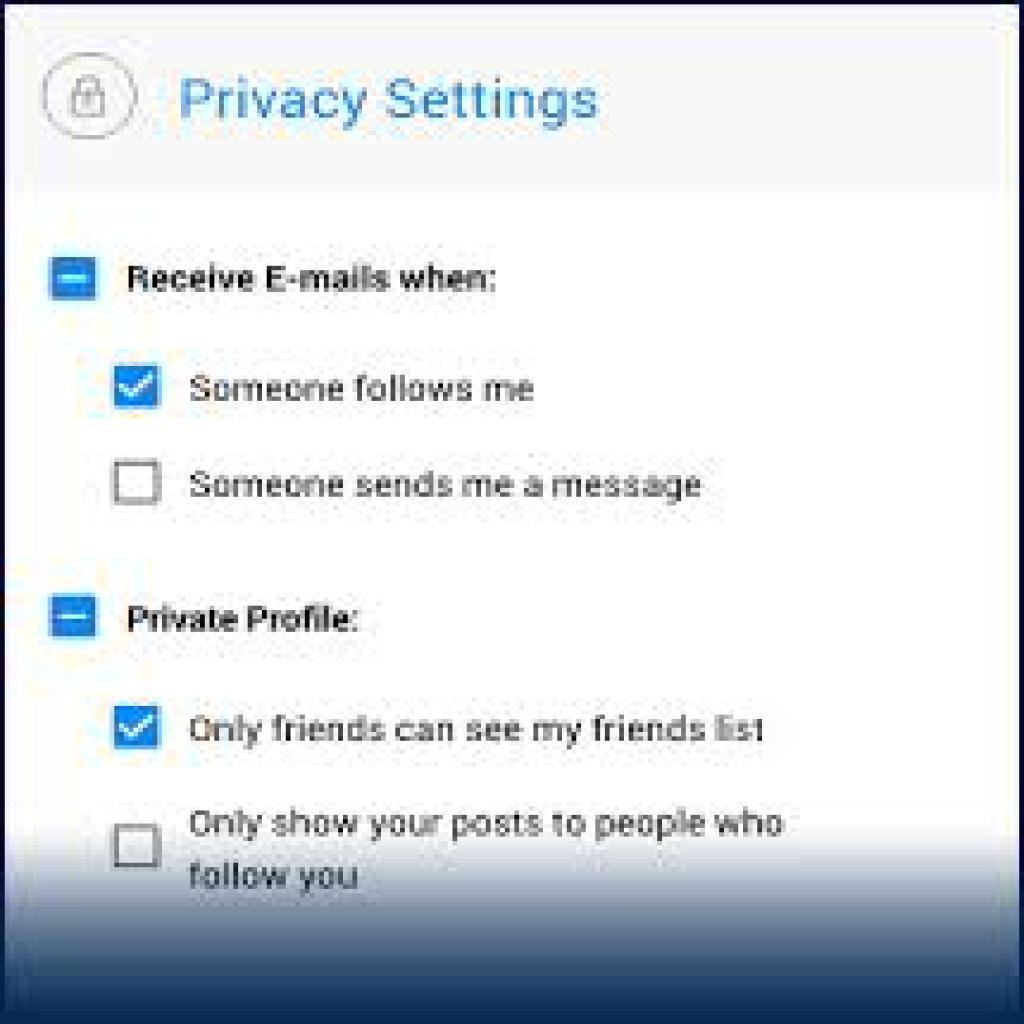checkbox: (112, 364, 167, 411), (113, 704, 162, 753), (114, 460, 164, 506), (113, 824, 160, 865)
